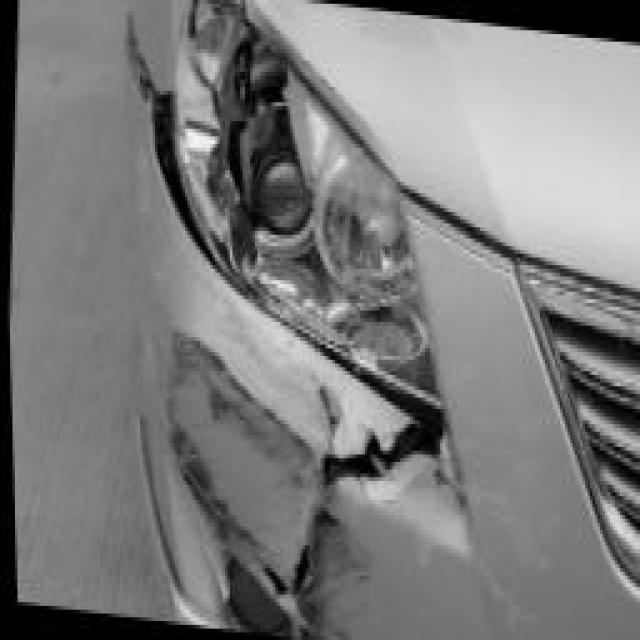Bumper: (105, 307, 465, 640), (100, 4, 188, 246)
Light: (159, 0, 442, 405)
